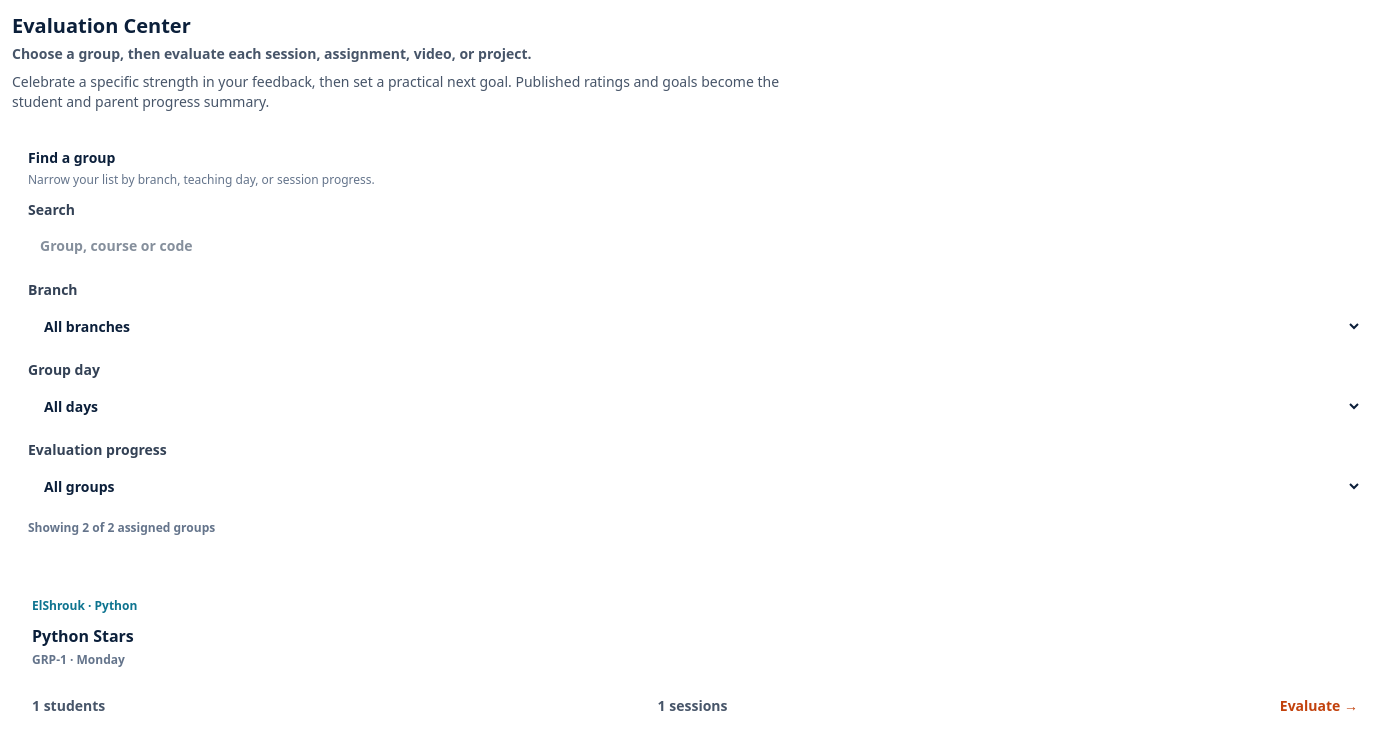
Test: Evaluation Center › filters assigned groups by branch, teaching day, and session progress
Select "Madinaty" in the dropdown labelled "Branch": (695, 326) [28, 304, 1362, 348]
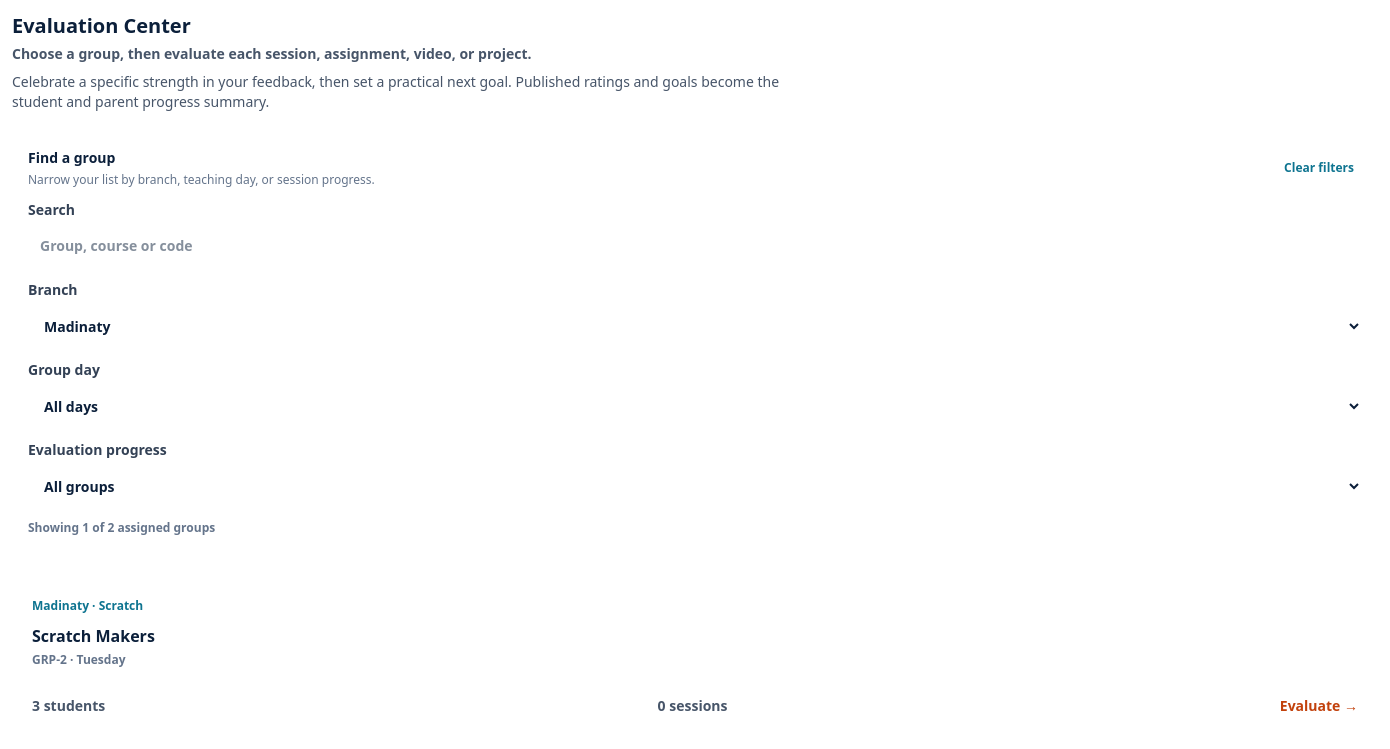
Check: the heading "Scratch Makers" is shown, box [32, 625, 155, 647]
Check: the button "Python Stars" is gone
Select "Monday" in the dropdown labelled "Group day": (695, 406) [28, 384, 1362, 428]
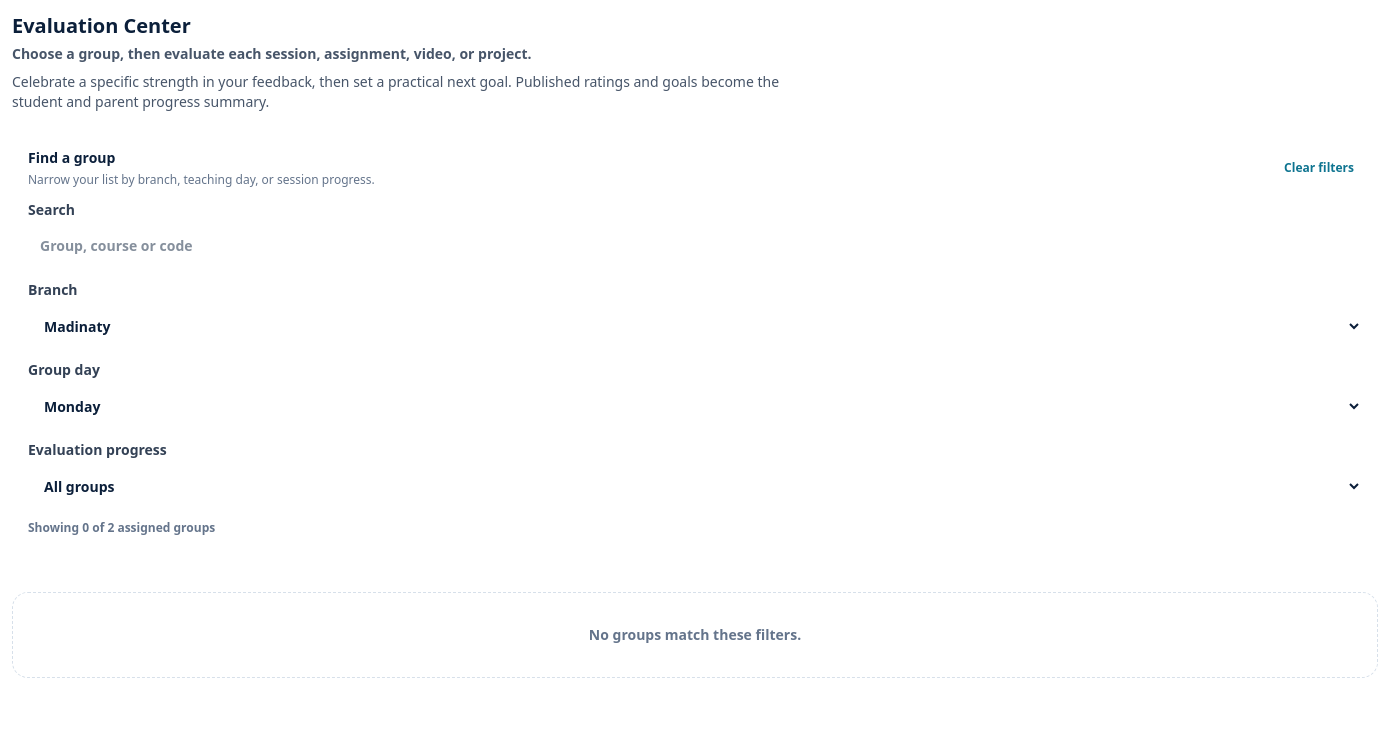
Check: the text "No groups match these filters." is shown, box [12, 592, 1378, 678]
Click the button "Clear filters": click(1319, 168) [1276, 156, 1362, 180]
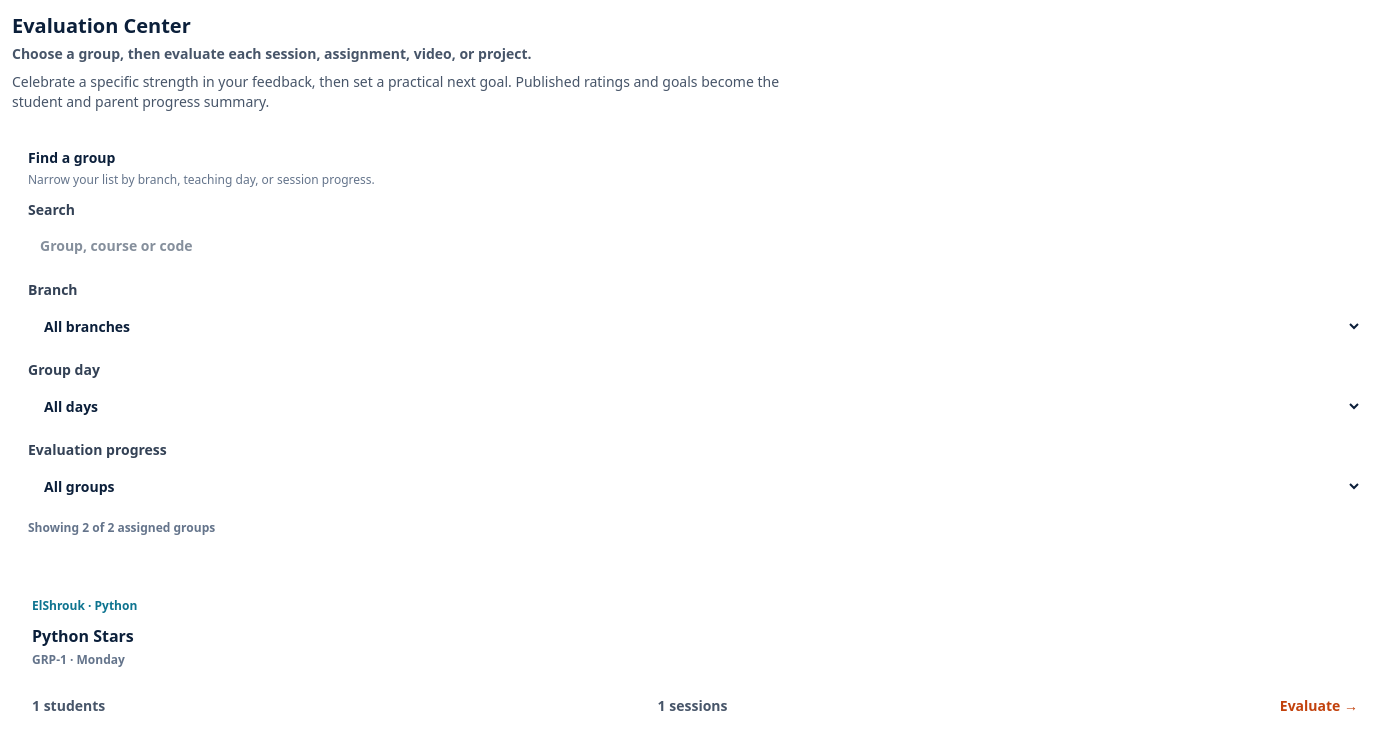
Select "No completed sessions yet" in the dropdown labelled "Evaluation progress": (695, 486) [28, 464, 1362, 508]
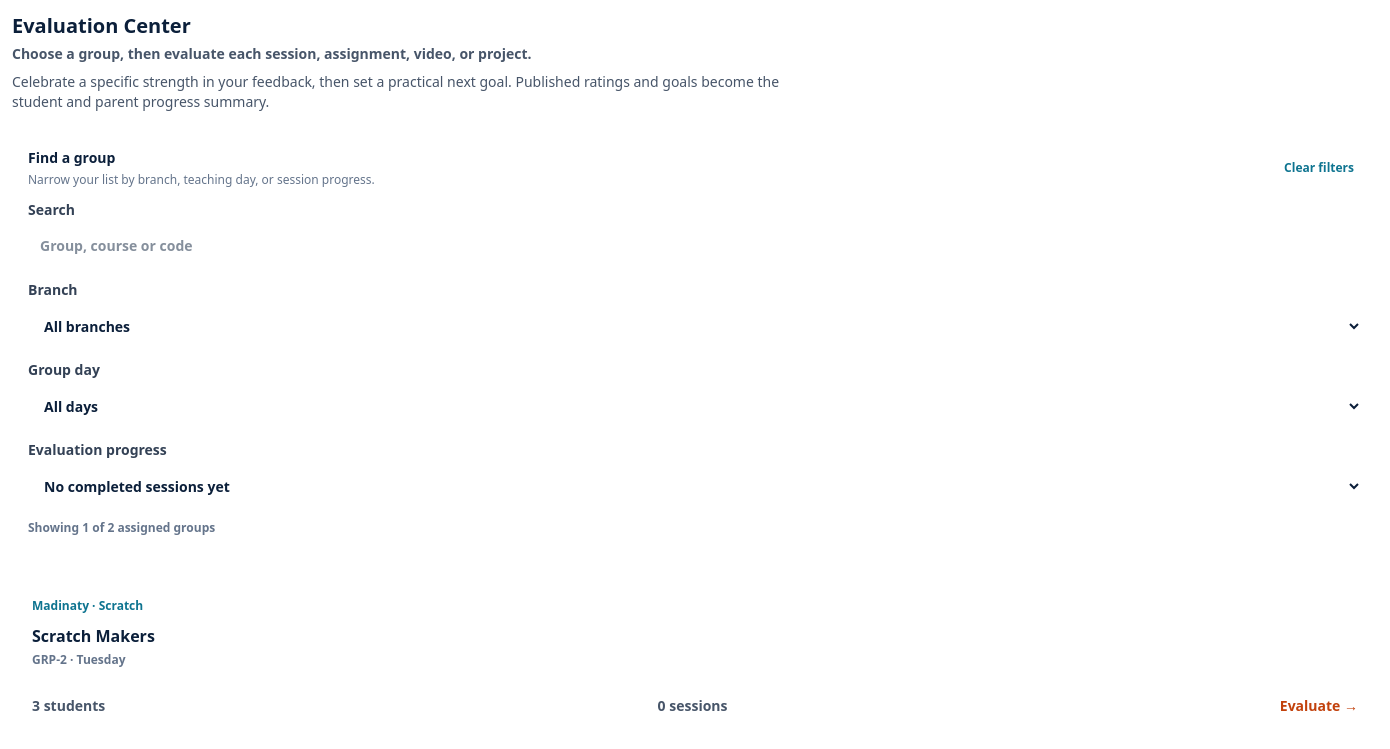
Check: the heading "Scratch Makers" is shown, box [32, 625, 155, 647]
Check: the button "Python Stars" is gone
